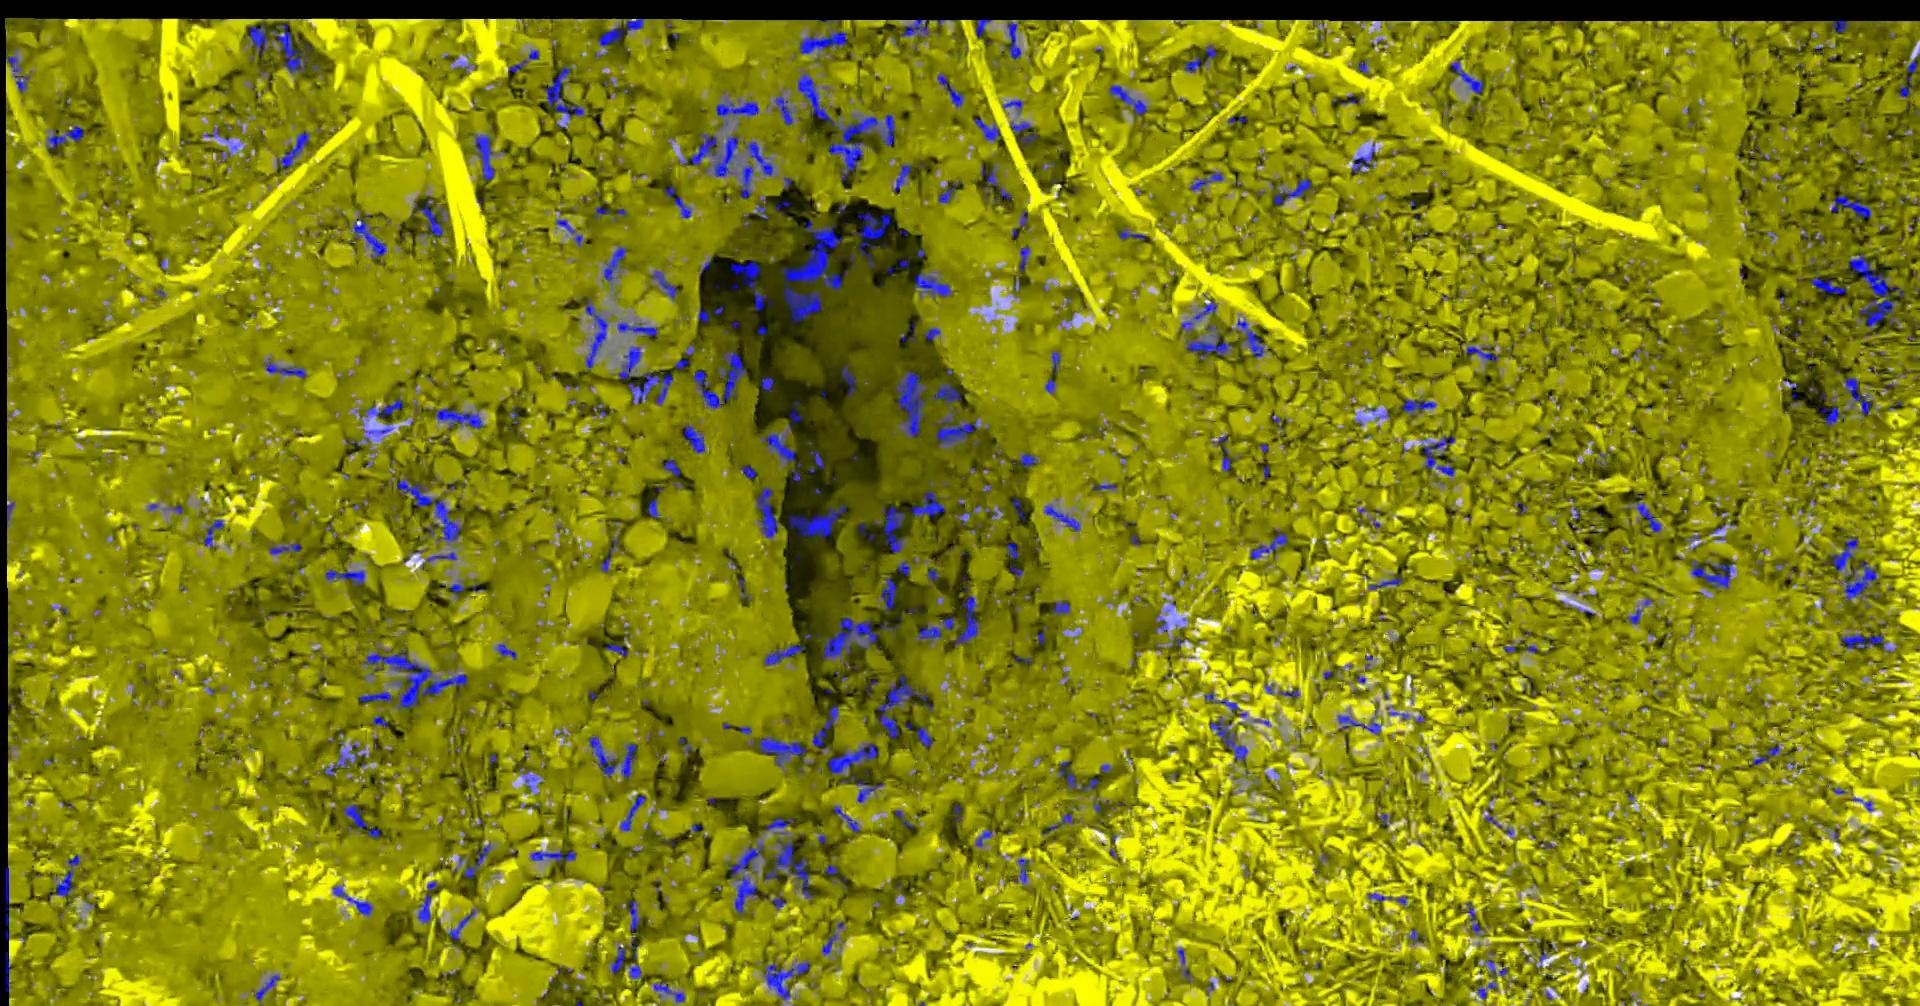ant: (875, 674, 933, 738), (617, 345, 672, 405), (726, 842, 764, 915), (272, 23, 321, 72), (850, 211, 890, 267), (729, 259, 772, 311), (588, 735, 637, 779), (543, 65, 583, 118), (789, 504, 846, 537), (1185, 323, 1233, 359), (1209, 715, 1247, 761), (763, 960, 809, 998), (350, 211, 386, 258), (585, 297, 608, 370), (827, 742, 877, 774), (949, 594, 979, 647), (872, 506, 905, 553), (47, 854, 80, 901), (1843, 559, 1879, 601), (758, 735, 808, 766), (1421, 434, 1455, 476), (1823, 535, 1858, 577), (759, 423, 794, 464), (1180, 298, 1217, 335), (411, 196, 444, 236), (343, 803, 380, 838), (1691, 559, 1732, 591), (1058, 760, 1098, 791), (811, 705, 838, 753), (597, 18, 643, 46), (323, 744, 364, 775), (1109, 84, 1147, 116), (1236, 319, 1267, 357), (839, 774, 883, 801), (1449, 60, 1483, 94), (276, 131, 309, 166), (1271, 177, 1313, 205), (980, 163, 1011, 201), (1250, 528, 1288, 559), (916, 614, 959, 640), (46, 124, 83, 155), (797, 30, 846, 53), (913, 271, 952, 298), (331, 887, 371, 915), (756, 486, 777, 537), (1203, 691, 1246, 716), (610, 937, 639, 974), (1844, 376, 1870, 415), (472, 133, 494, 180), (436, 408, 483, 429), (1810, 271, 1845, 298), (618, 794, 646, 829), (447, 909, 475, 945), (1830, 194, 1870, 218), (358, 398, 403, 419), (463, 842, 491, 876), (1044, 504, 1079, 531), (1630, 502, 1661, 532), (1183, 44, 1217, 72), (937, 72, 964, 107), (263, 357, 305, 379), (5, 55, 29, 91), (663, 185, 691, 217), (910, 490, 943, 517), (1898, 53, 1919, 97), (715, 99, 758, 119), (417, 882, 438, 922), (763, 644, 803, 666), (1337, 715, 1382, 734), (603, 245, 626, 281), (617, 320, 657, 340), (1818, 392, 1843, 426), (555, 218, 583, 246), (649, 271, 677, 298), (1839, 633, 1886, 649), (832, 805, 860, 832), (254, 976, 279, 1005), (599, 536, 620, 572), (324, 568, 364, 586), (819, 862, 847, 888), (1351, 144, 1375, 173), (1211, 434, 1230, 471), (653, 981, 684, 1002), (1010, 121, 1037, 145), (682, 423, 703, 453), (1398, 398, 1435, 415), (1189, 171, 1223, 191), (248, 23, 268, 55), (973, 117, 999, 140), (1003, 22, 1020, 58), (880, 577, 897, 614), (202, 520, 223, 547), (1465, 901, 1483, 934), (773, 94, 792, 124), (530, 850, 575, 862), (738, 164, 754, 198), (891, 164, 910, 193), (899, 18, 930, 36), (1752, 743, 1779, 763), (1368, 574, 1402, 589), (937, 180, 961, 202), (1368, 892, 1407, 904), (1465, 345, 1497, 361), (1048, 812, 1073, 831), (1176, 948, 1190, 982), (841, 365, 855, 396), (625, 899, 639, 931), (1484, 959, 1509, 977), (1012, 857, 1029, 883), (822, 929, 838, 954), (894, 809, 916, 828), (358, 691, 392, 702), (1012, 452, 1037, 467), (269, 542, 301, 554), (660, 459, 681, 476), (916, 727, 933, 747), (975, 828, 996, 846), (1117, 226, 1145, 239), (364, 422, 392, 434), (752, 196, 767, 218), (808, 450, 823, 473), (495, 643, 516, 659), (1830, 19, 1855, 32), (521, 766, 535, 789), (425, 551, 456, 561), (1012, 495, 1025, 520), (4, 865, 9, 925), (787, 400, 801, 422), (857, 522, 874, 540), (975, 18, 990, 37), (1018, 245, 1030, 271), (738, 577, 750, 600), (771, 890, 786, 909), (507, 58, 527, 72), (678, 735, 692, 756), (1001, 99, 1022, 112), (900, 323, 916, 340), (604, 644, 627, 655), (952, 803, 963, 828), (4, 951, 10, 991), (1051, 600, 1069, 614), (1050, 351, 1060, 373), (1625, 608, 1641, 624), (1408, 929, 1423, 944), (594, 205, 611, 218), (897, 559, 910, 575), (790, 462, 801, 481), (648, 498, 659, 517), (759, 376, 773, 391), (742, 464, 756, 479), (1004, 542, 1018, 558), (448, 583, 463, 597), (371, 715, 389, 727), (924, 326, 938, 340), (926, 567, 938, 582), (629, 963, 641, 978), (1092, 483, 1116, 490), (1277, 688, 1298, 697), (1377, 813, 1390, 826), (697, 307, 709, 323), (674, 358, 690, 370), (1044, 379, 1055, 394), (1018, 210, 1027, 227)
